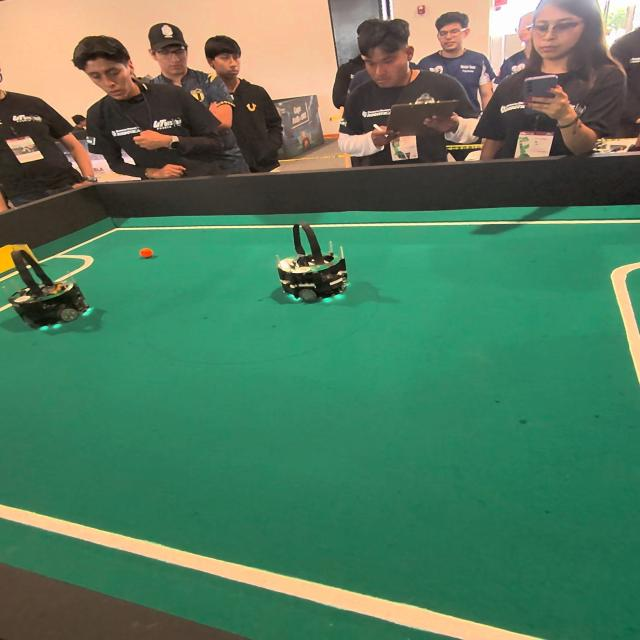Robot: (5, 238, 96, 335), (271, 223, 354, 313)
pelota: (137, 243, 157, 264)
